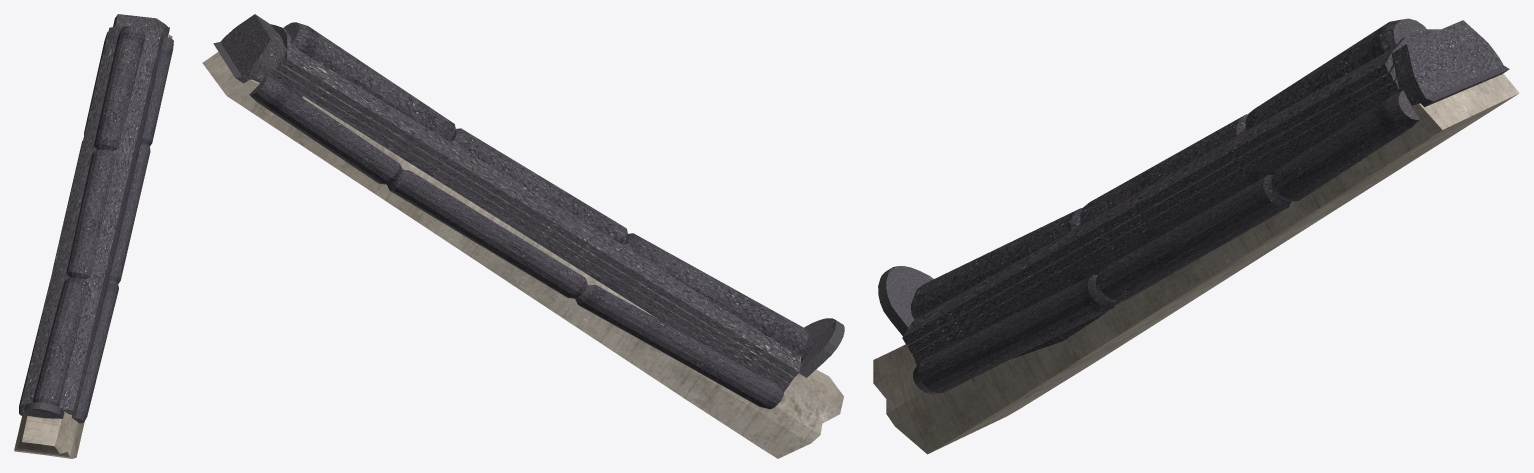
File: SM_R_BeamRoof_3.fbx
3 renders of one model, left to right at view 1: azimuth 30°, elevation 25°; view 2: azimuth 150°, elevation 25°; view 3: azimuth 270°, elevation 25°, orthographic. The views are drawn at different scales.
Parts seen in each view (by area): view 1: SM_R_BeamRoof_3; view 2: SM_R_BeamRoof_3; view 3: SM_R_BeamRoof_3.
Boxes of the visible parts, x1,y1,x2,y2 form: SM_R_BeamRoof_3: (14,14,173,458); SM_R_BeamRoof_3: (202,14,844,458); SM_R_BeamRoof_3: (873,18,1519,454).
Bounding box in the file's own units: 217 × 216 × 223.
Materials: 2 (2 with a texture image).
